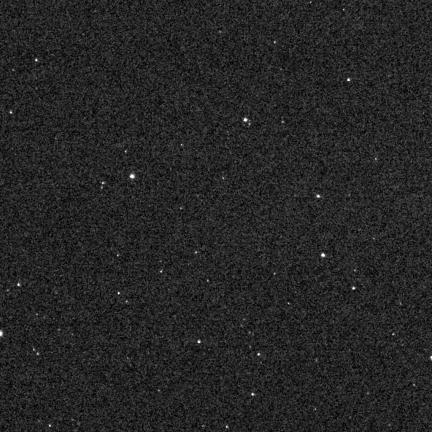blob: (130, 173, 135, 179), (0, 330, 3, 337), (316, 195, 321, 199), (198, 340, 202, 344), (244, 118, 248, 122), (321, 253, 325, 257), (352, 287, 356, 290), (348, 79, 351, 82), (252, 393, 255, 396)
